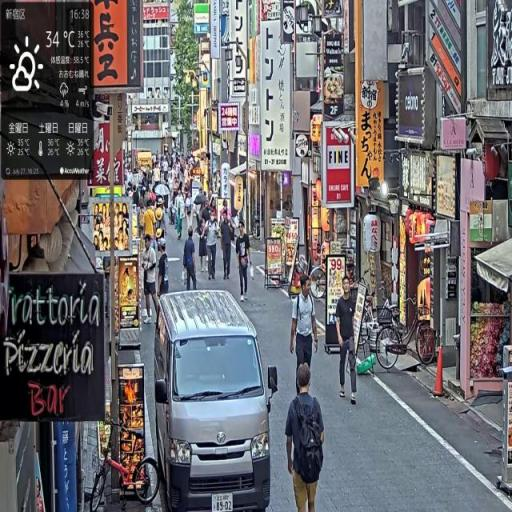person: (286, 361, 327, 511), (290, 272, 320, 395), (336, 275, 361, 408), (141, 234, 160, 326), (236, 221, 253, 306), (220, 211, 235, 282), (206, 212, 220, 283), (184, 227, 199, 293), (158, 244, 171, 301)
